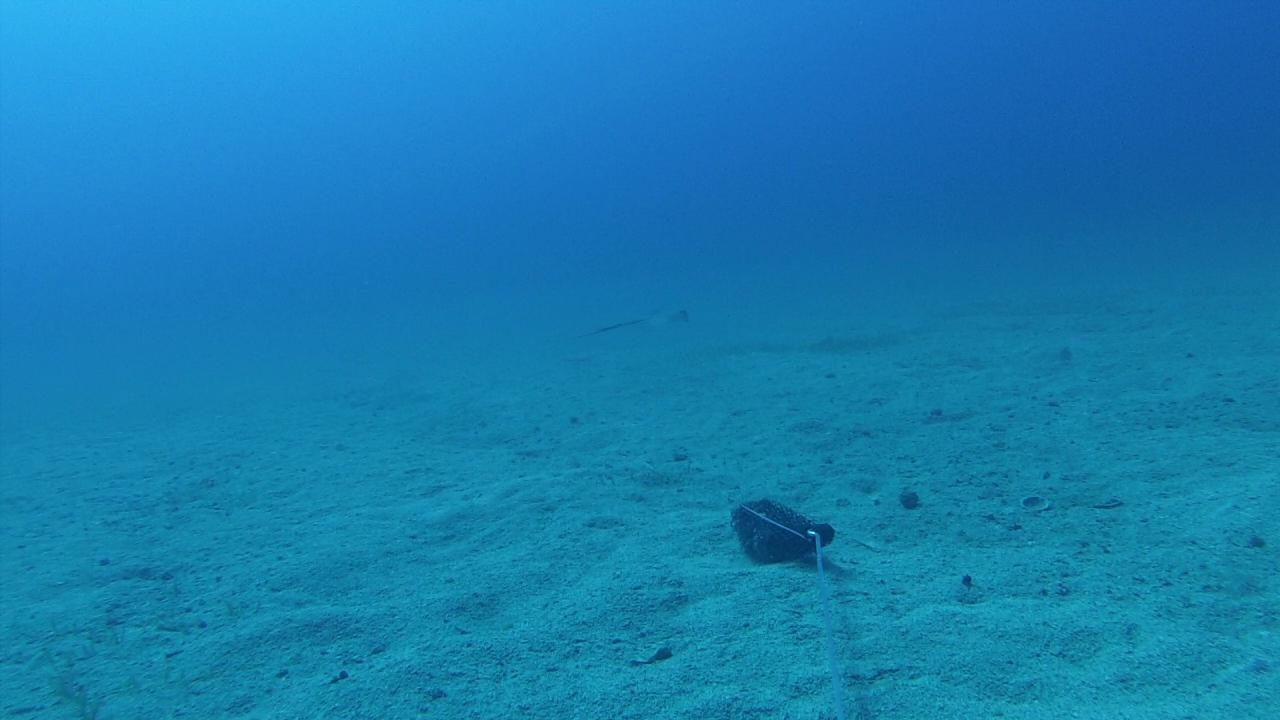dasyatis: (582, 304, 691, 334)
